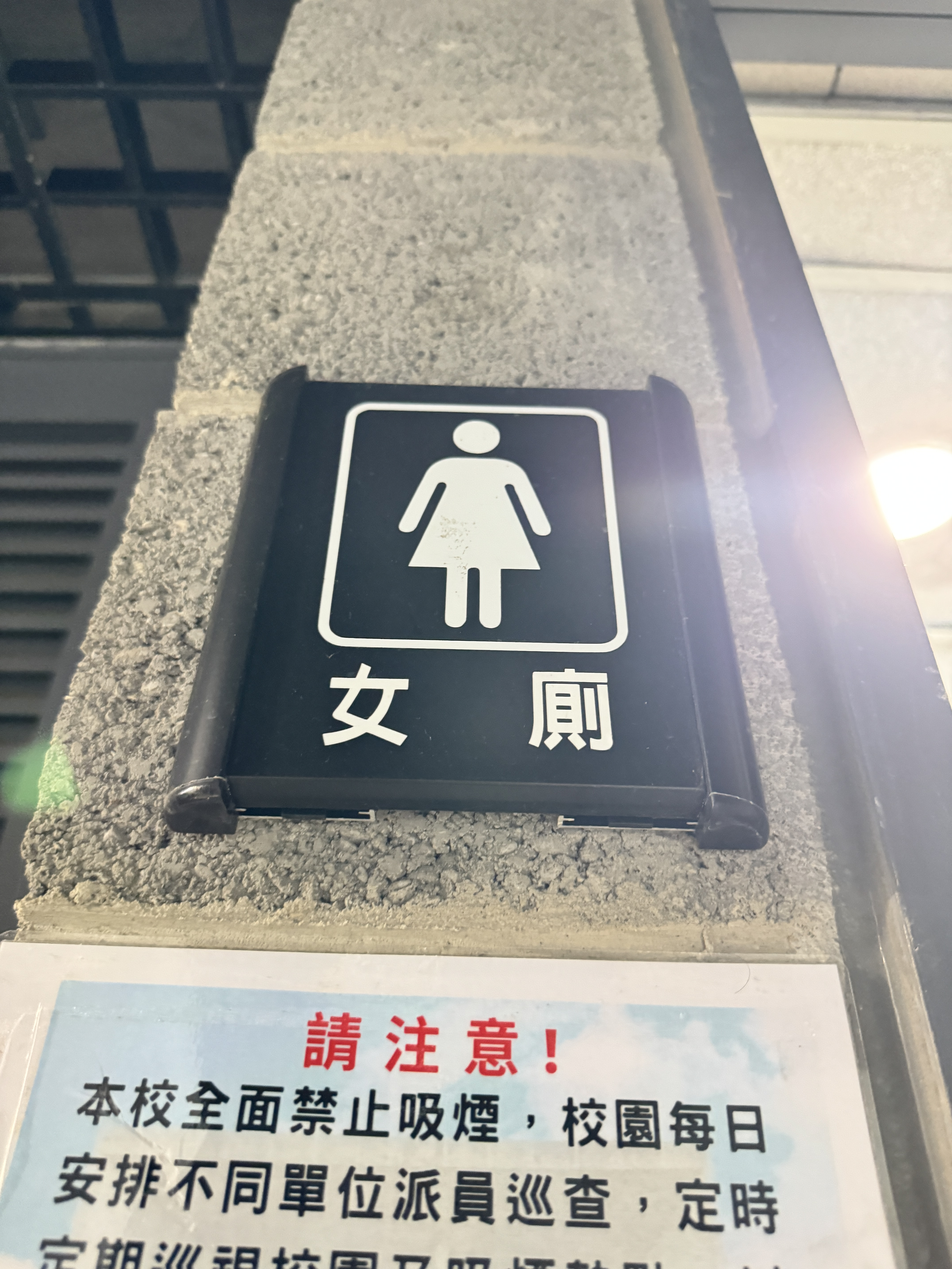toilet_sign: (160, 363, 780, 847)
